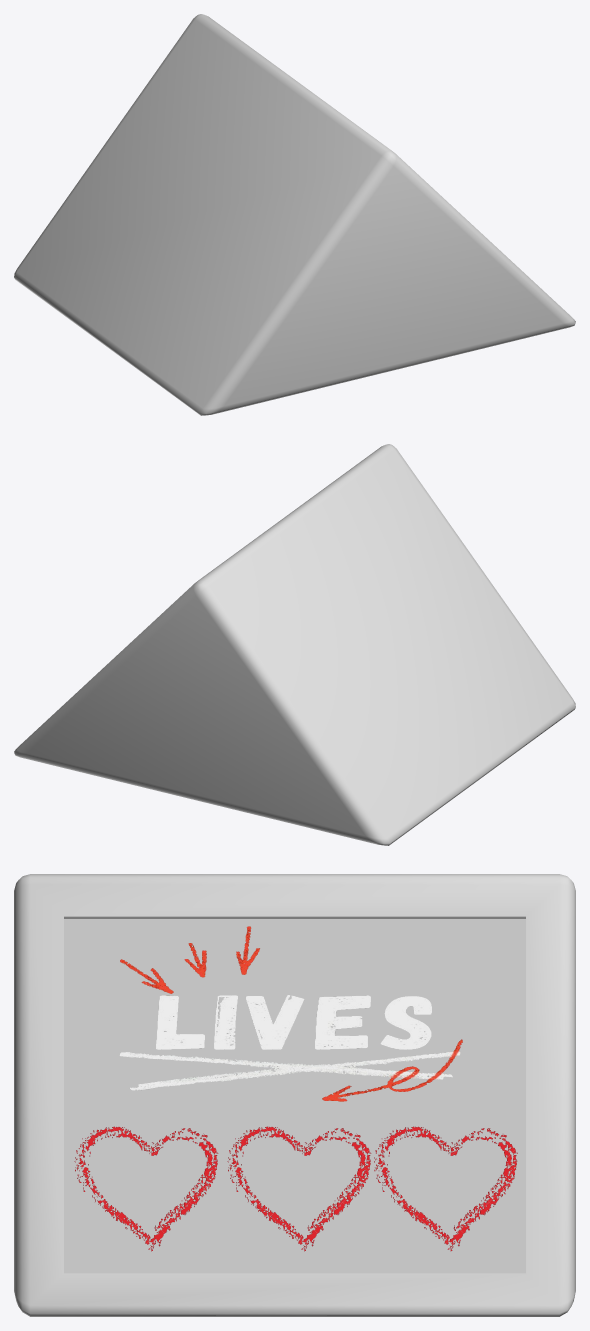
The model's file is lives chalkboard.fbx.
3 views of the same model, one above another, from view 1: azimuth 30°, elevation 25°; view 2: azimuth 150°, elevation 25°; view 3: azimuth 270°, elevation 25° (orthographic). The views are drawn at different scales.
Parts seen in each view (by area): view 1: lives chalkboard; view 2: lives chalkboard; view 3: lives chalkboard, lives chalk, chalk heart.002, chalk heart.001, chalk heart.
Boxes of the visible parts, x1,y1,x2,y2 form: lives chalkboard: (14, 14, 575, 415); lives chalkboard: (14, 444, 575, 845); lives chalkboard: (14, 874, 575, 1316); lives chalk: (119, 926, 462, 1101); chalk heart.002: (374, 1126, 517, 1251); chalk heart.001: (227, 1126, 371, 1251); chalk heart: (74, 1126, 218, 1251).
Size of the model in its own units: 52.58 by 29.32 by 47.82.
